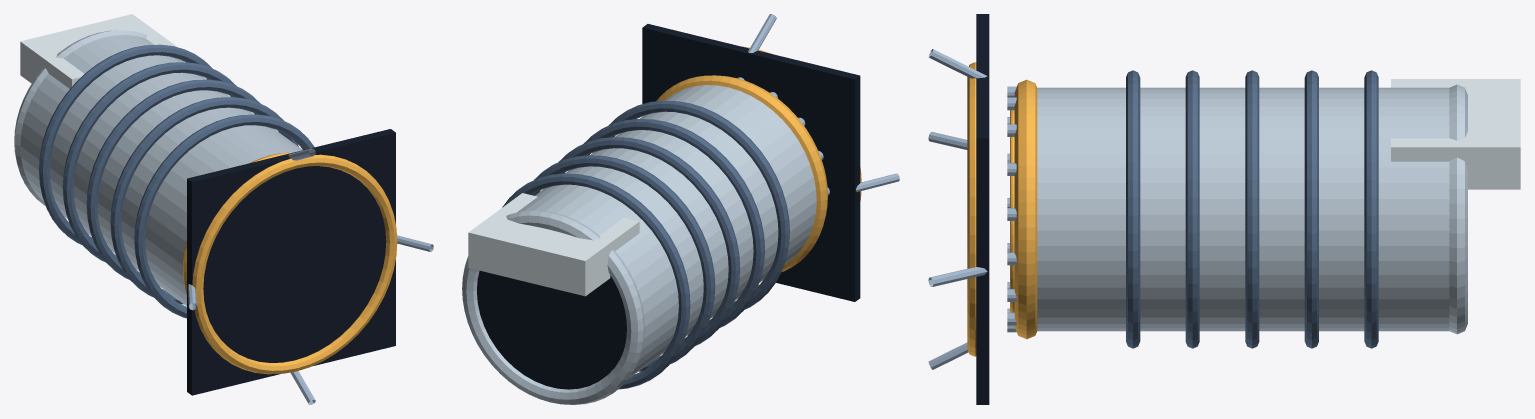
Rendered from 16_L91_XRayPulsarTelescopeA.fbx.
3 views of the same model, side by side, from view 1: azimuth 30°, elevation 25°; view 2: azimuth 150°, elevation 25°; view 3: azimuth 270°, elevation 25° (orthographic). The views are drawn at different scales.
Parts seen in each view (by area): view 1: L91_XRayPulsarTelescopeA_Part_0008, L91_XRayPulsarTelescopeA_Part_0000, L91_XRayPulsarTelescopeA_Part_0006, L91_XRayPulsarTelescopeA_Part_0009, L91_XRayPulsarTelescopeA_Part_0007, L91_XRayPulsarTelescopeA_Part_0010; view 2: L91_XRayPulsarTelescopeA_Part_0000, L91_XRayPulsarTelescopeA_Part_0006, L91_XRayPulsarTelescopeA_Part_0008, L91_XRayPulsarTelescopeA_Part_0001, L91_XRayPulsarTelescopeA_Part_0007, L91_XRayPulsarTelescopeA_Part_0002, L91_XRayPulsarTelescopeA_Part_0010; view 3: L91_XRayPulsarTelescopeA_Part_0000, L91_XRayPulsarTelescopeA_Part_0006, L91_XRayPulsarTelescopeA_Part_0007, L91_XRayPulsarTelescopeA_Part_0002, L91_XRayPulsarTelescopeA_Part_0008, L91_XRayPulsarTelescopeA_Part_0009, L91_XRayPulsarTelescopeA_Part_0010, L91_XRayPulsarTelescopeA_Part_0004.
Part boxes in pixels (x1,y1,x2,y2): L91_XRayPulsarTelescopeA_Part_0008: (187,129,395,395); L91_XRayPulsarTelescopeA_Part_0000: (14,30,302,305); L91_XRayPulsarTelescopeA_Part_0006: (39,44,314,318); L91_XRayPulsarTelescopeA_Part_0009: (192,154,397,374); L91_XRayPulsarTelescopeA_Part_0007: (20,14,183,88); L91_XRayPulsarTelescopeA_Part_0010: (187,148,433,404); L91_XRayPulsarTelescopeA_Part_0000: (462,85,816,404); L91_XRayPulsarTelescopeA_Part_0006: (502,100,789,389); L91_XRayPulsarTelescopeA_Part_0008: (642,24,860,301); L91_XRayPulsarTelescopeA_Part_0001: (477,270,626,389); L91_XRayPulsarTelescopeA_Part_0007: (468,193,639,296); L91_XRayPulsarTelescopeA_Part_0002: (656,75,827,271); L91_XRayPulsarTelescopeA_Part_0010: (748,14,899,191); L91_XRayPulsarTelescopeA_Part_0000: (1037,84,1467,334); L91_XRayPulsarTelescopeA_Part_0006: (1126,70,1378,348); L91_XRayPulsarTelescopeA_Part_0007: (1391,79,1520,189); L91_XRayPulsarTelescopeA_Part_0002: (1010,79,1037,339); L91_XRayPulsarTelescopeA_Part_0008: (976,14,989,404); L91_XRayPulsarTelescopeA_Part_0009: (967,62,976,356); L91_XRayPulsarTelescopeA_Part_0010: (928,49,987,369); L91_XRayPulsarTelescopeA_Part_0004: (1007,86,1016,288).
Bounding box in the file's own units: 273 × 273 × 457.
